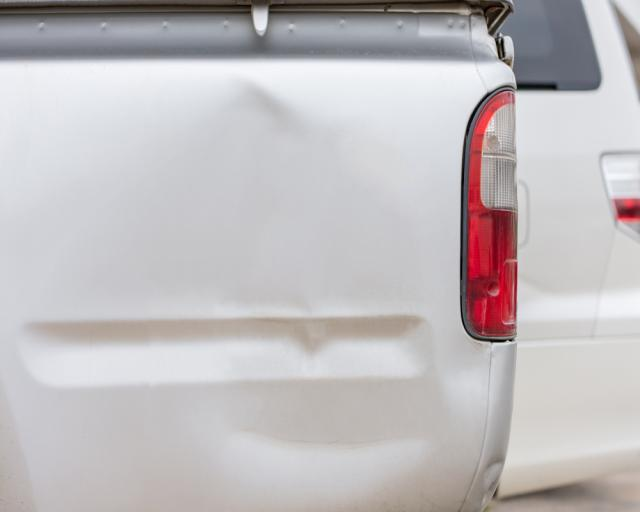dent: (113, 86, 404, 319), (203, 379, 450, 506)
